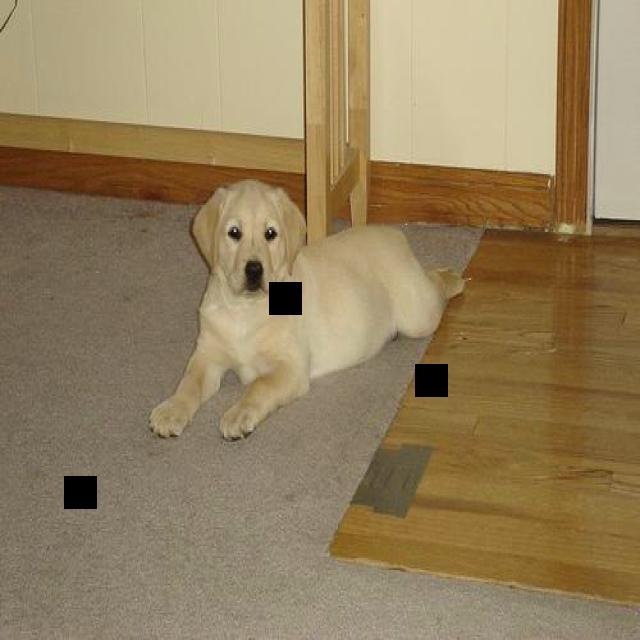puppy-dog: (148, 180, 470, 442)
